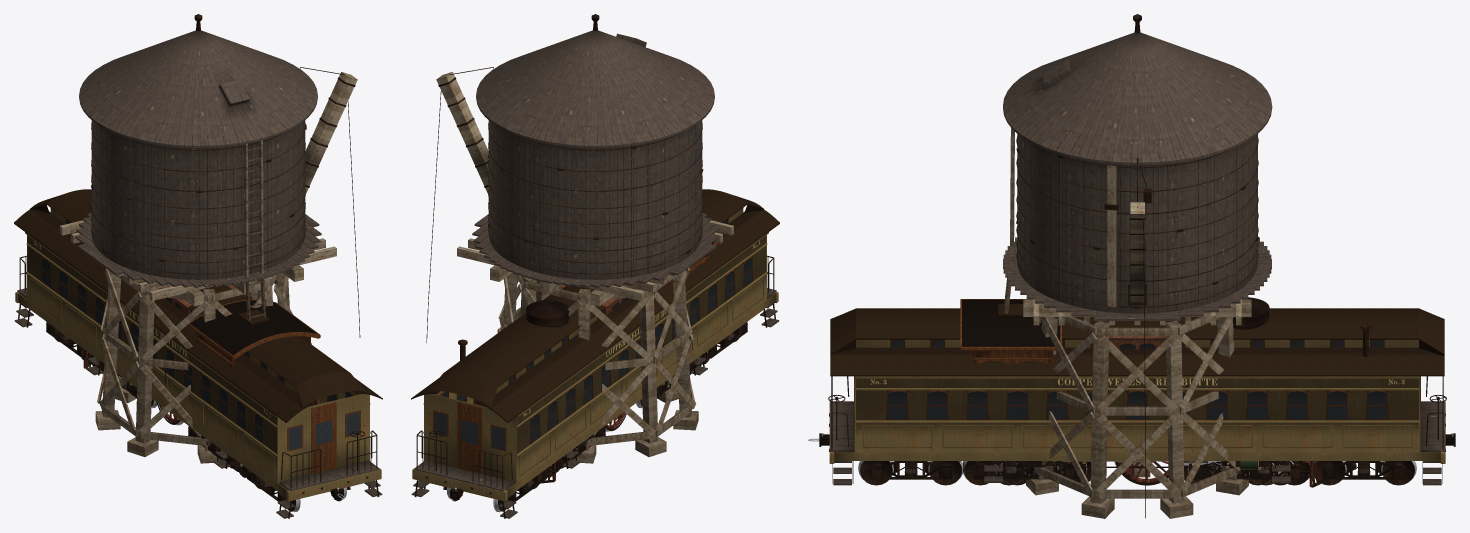
File: train.glb
The picture shows the model from 3 angles, left to right: view 1: azimuth 30°, elevation 25°; view 2: azimuth 150°, elevation 25°; view 3: azimuth 270°, elevation 25°; orthographic projection. The views are drawn at different scales.
Parts seen in each view (by area): view 1: water_tower_body, car_coach_body, loco_body, car_caboose_body; view 2: water_tower_body, car_coach_body, loco_body, car_caboose_body; view 3: water_tower_body, car_coach_body, loco_body, car_caboose_body, car_box_body, tender_body.
Part boxes in pixels (left/top/right/bottom): water_tower_body: left=60, top=14, right=360, bottom=463; car_coach_body: left=14, top=189, right=382, bottom=518; loco_body: left=81, top=299, right=320, bottom=466; car_caboose_body: left=86, top=284, right=235, bottom=468; water_tower_body: left=426, top=14, right=733, bottom=463; car_coach_body: left=411, top=189, right=779, bottom=518; loco_body: left=526, top=242, right=717, bottom=483; car_caboose_body: left=558, top=285, right=707, bottom=468; water_tower_body: left=1003, top=14, right=1272, bottom=518; car_coach_body: left=808, top=308, right=1455, bottom=485; loco_body: left=960, top=297, right=1356, bottom=487; car_caboose_body: left=976, top=336, right=1298, bottom=482; car_box_body: left=956, top=398, right=1318, bottom=479; tender_body: left=999, top=461, right=1275, bottom=479.
Size of the model in its own units: 8.58 by 12.41 by 15.87.
16 materials, 12 textured.
